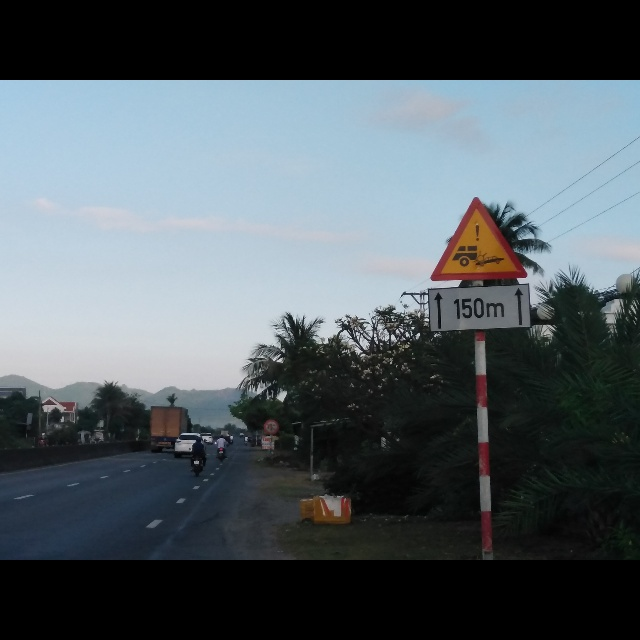Đoạn đường hay xảy ra tai nạn: (430, 195, 527, 284)
